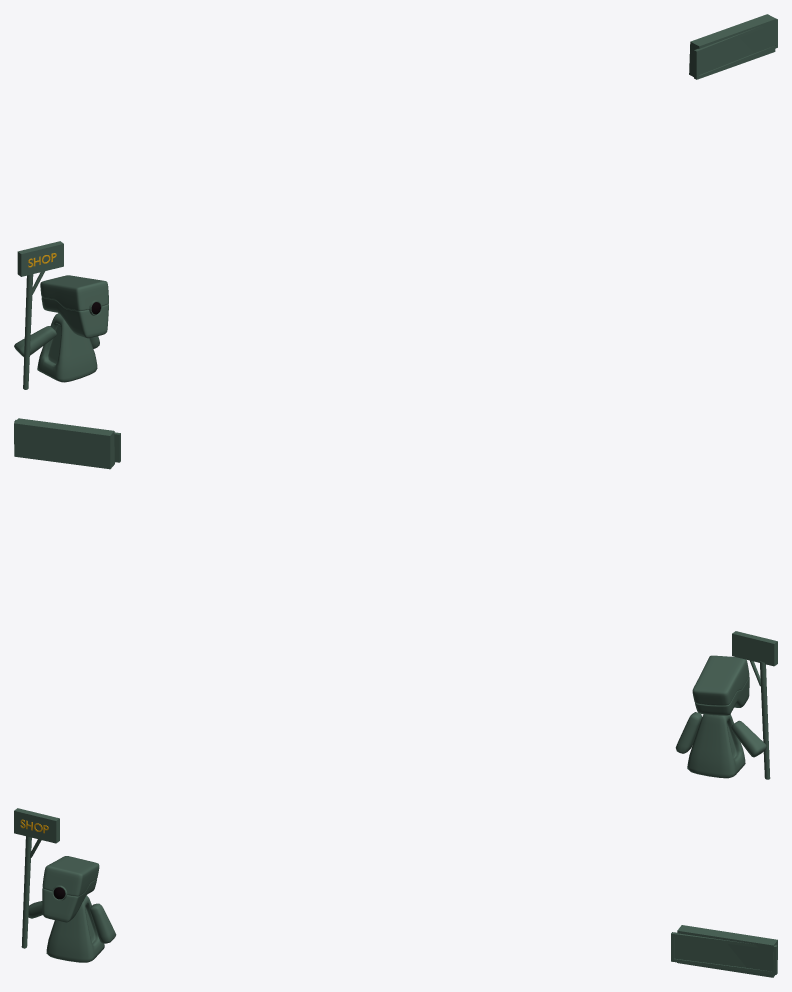
The model's file is Computer.glb.
3 renders of one model, top to bottom at view 1: azimuth 30°, elevation 25°; view 2: azimuth 150°, elevation 25°; view 3: azimuth 330°, elevation 25°, orthographic.
Visible parts, largest first — view 1: Computer; view 2: Computer; view 3: Computer.
Boxes of the visible parts, x1=… form: Computer: x1=14, y1=14, x2=777, y2=389; Computer: x1=14, y1=418, x2=777, y2=779; Computer: x1=14, y1=808, x2=777, y2=977.
Bounding box in the file's own units: 16.83 × 3.89 × 1.44.
